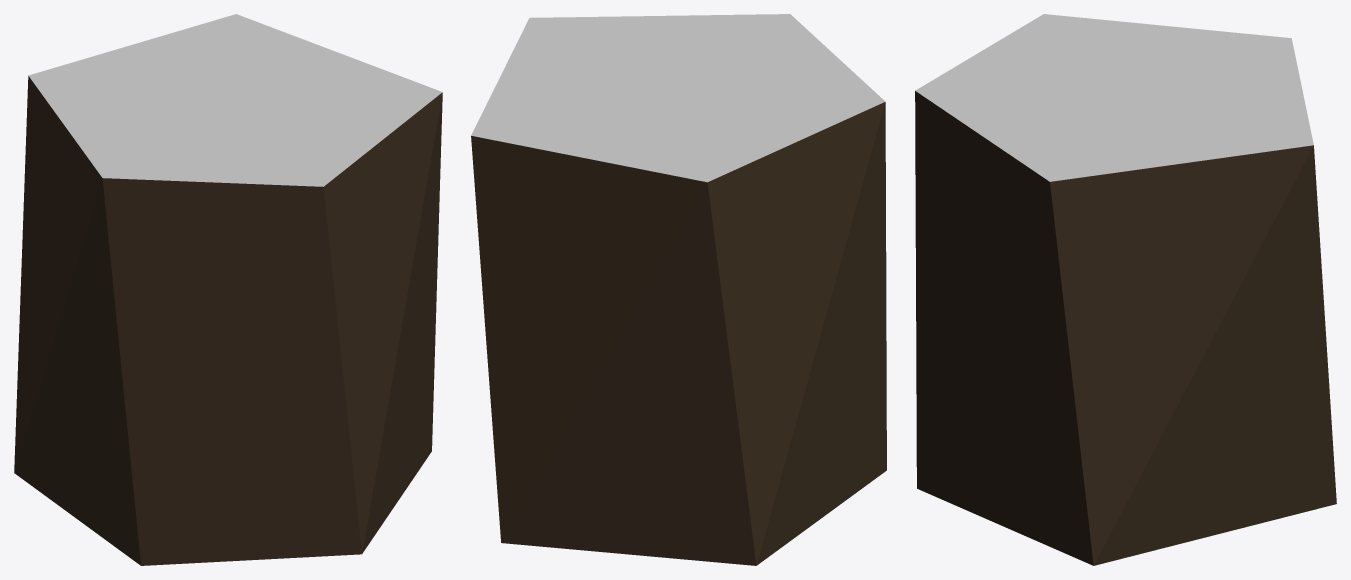
File: CHAIR_1_PC.OBJ
3 views of the same model, side by side, from view 1: azimuth 30°, elevation 25°; view 2: azimuth 150°, elevation 25°; view 3: azimuth 270°, elevation 25° (orthographic). The views are drawn at different scales.
Visible parts, largest first — view 1: CHAIR_1_PC; view 2: CHAIR_1_PC; view 3: CHAIR_1_PC.
Boxes of the visible parts, x1=… form: CHAIR_1_PC: x1=14, y1=14, x2=442, y2=565; CHAIR_1_PC: x1=471, y1=14, x2=886, y2=565; CHAIR_1_PC: x1=915, y1=14, x2=1336, y2=565.
Size of the model in its own units: 0.488 by 0.4972 by 0.5019.
